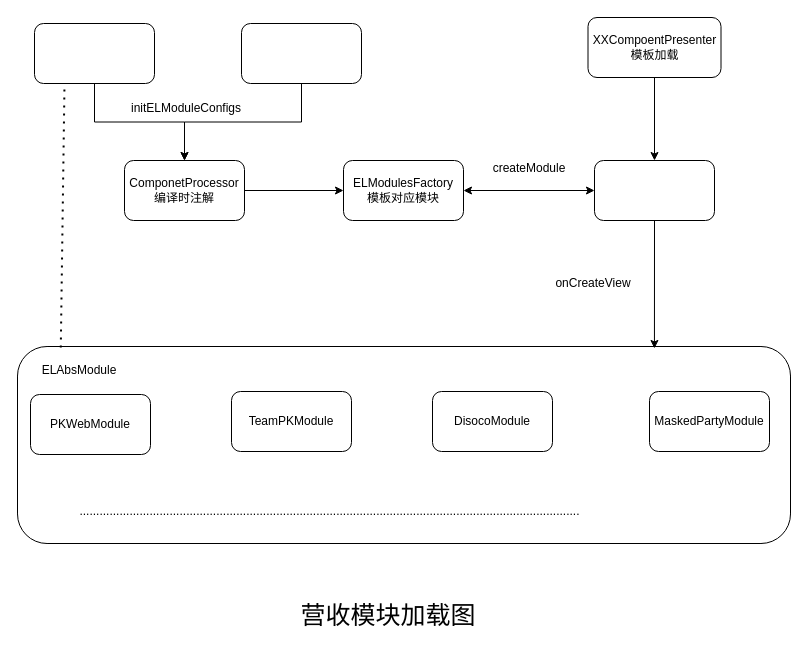
Some shapes in this 808 by 647 pixel diagram are drawn without their labels. The shapes that lost their labels are listed below. From the top down, each one's centre as x and y in pixels, then its label:
At (x=94, y=53): "XXComponentConfig 模块配置".
At (x=301, y=53): "XXComponent 模板（娱乐模板）".
At (x=654, y=190): "ELModulesManager 模块管理".
